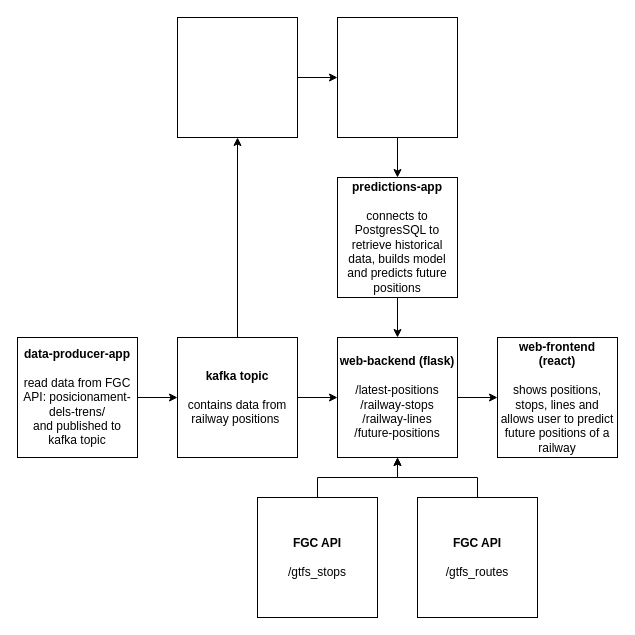
Some shapes in this 635 by 635 pixel diagram are drawn without their labels. Here are the shapes that lost their labels. From the top down, the centre of each, then its label:
pixel 237 77: persistence-app move data from kafka topic to PostgreSQL table
pixel 397 77: postgres SQL table
